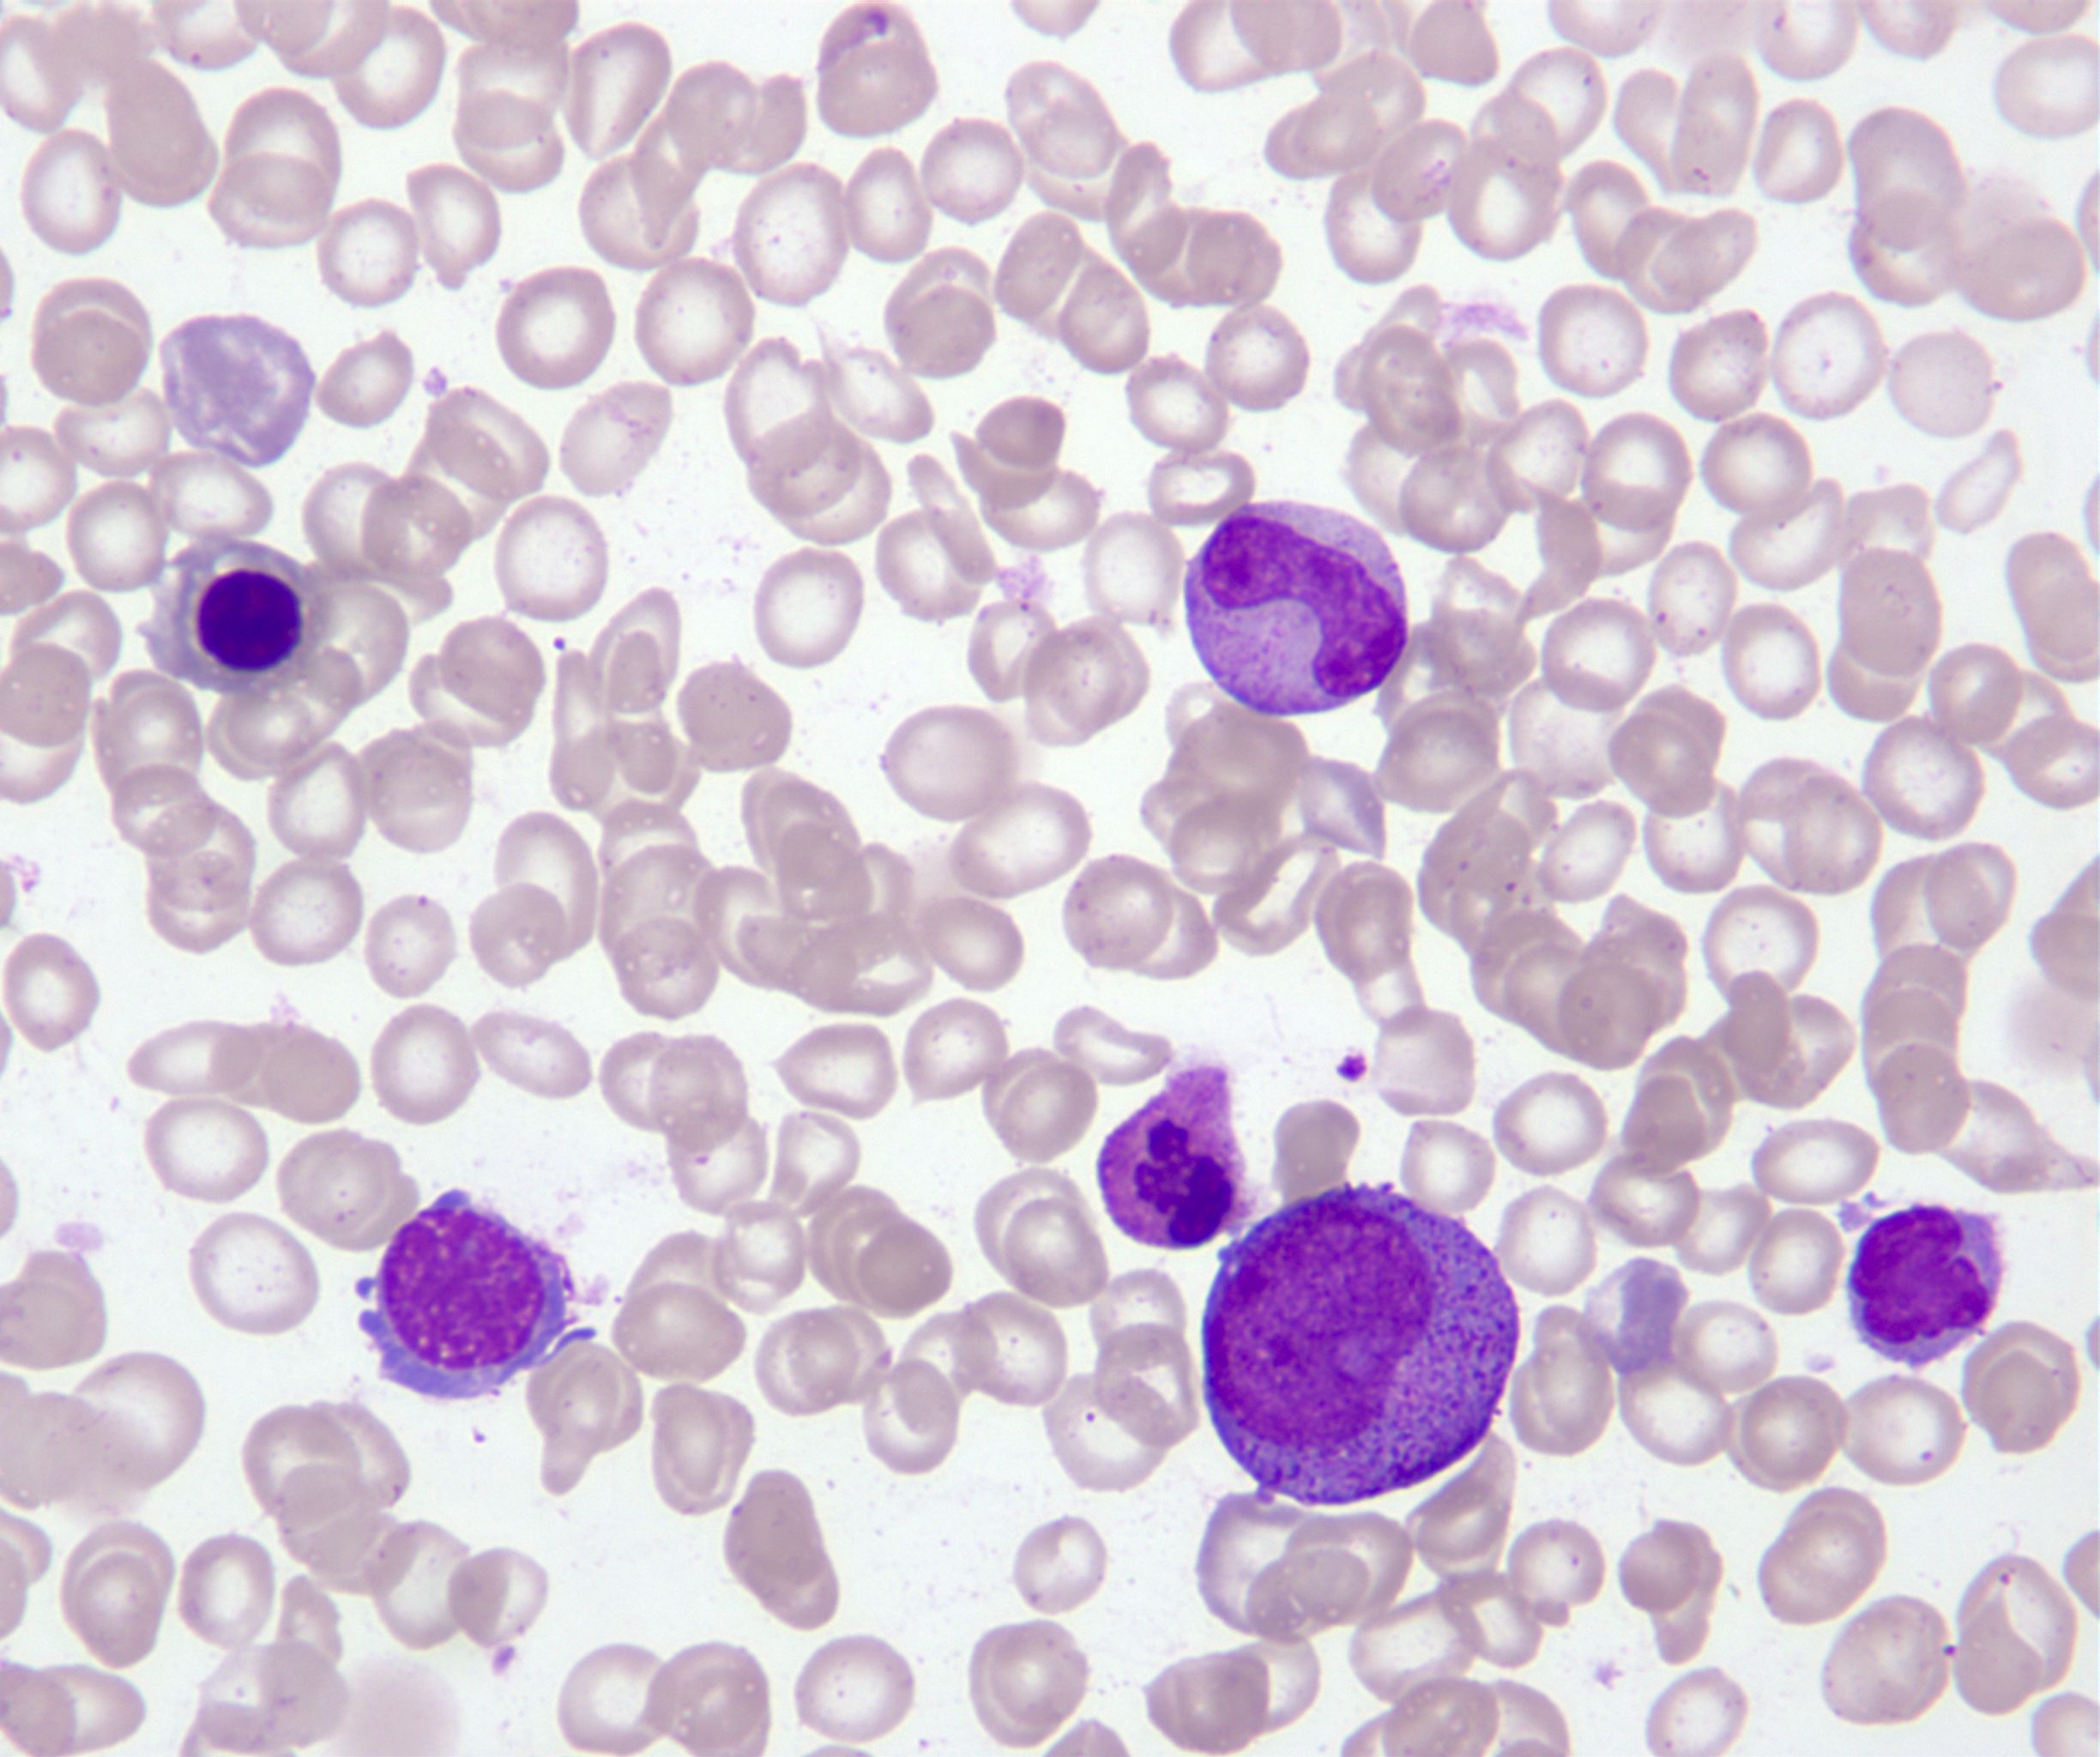2: (1203, 1183, 1517, 1504)
24: (136, 539, 335, 698)
4: (1184, 502, 1411, 719)
6: (1099, 1066, 1252, 1249)
x: (358, 1188, 595, 1399), (1847, 1204, 2002, 1366)
